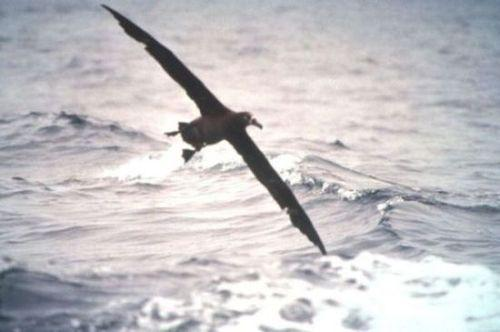001.Black_footed_Albatross: (100, 3, 325, 257)
